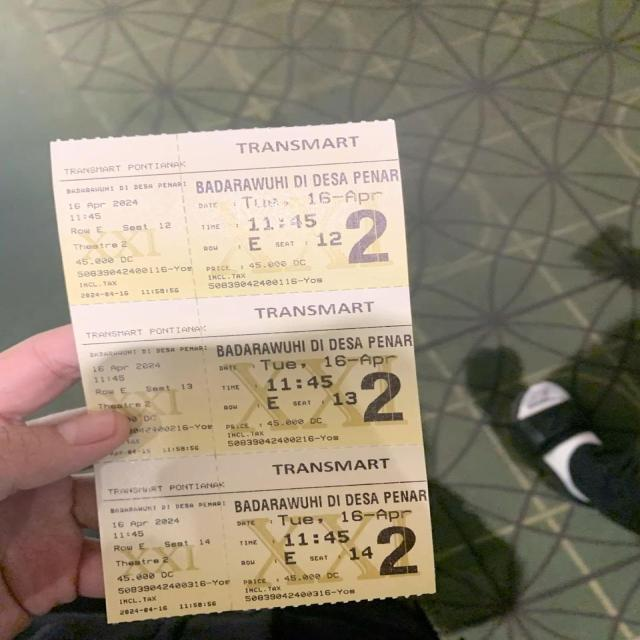date: (62, 198, 167, 224)
store: (230, 134, 381, 155)
total: (196, 256, 313, 276)
